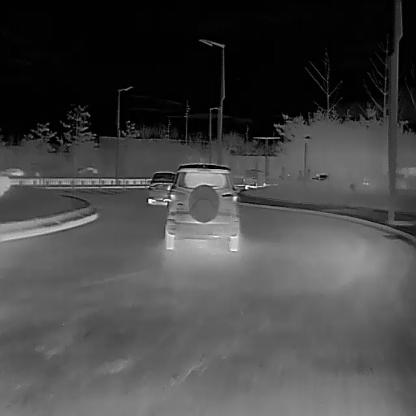car: (162, 162, 240, 250), (144, 169, 176, 204)
